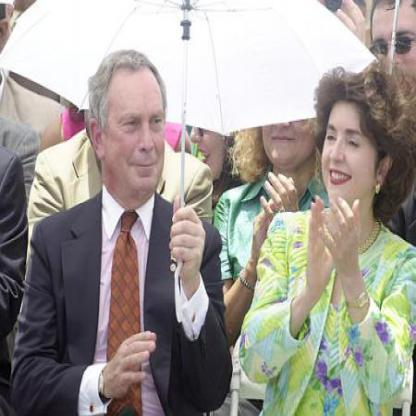face: (100, 56, 171, 200), (319, 84, 385, 216), (189, 90, 233, 183)
